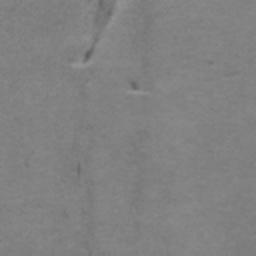Finishing roll printing: (81, 0, 116, 64)
